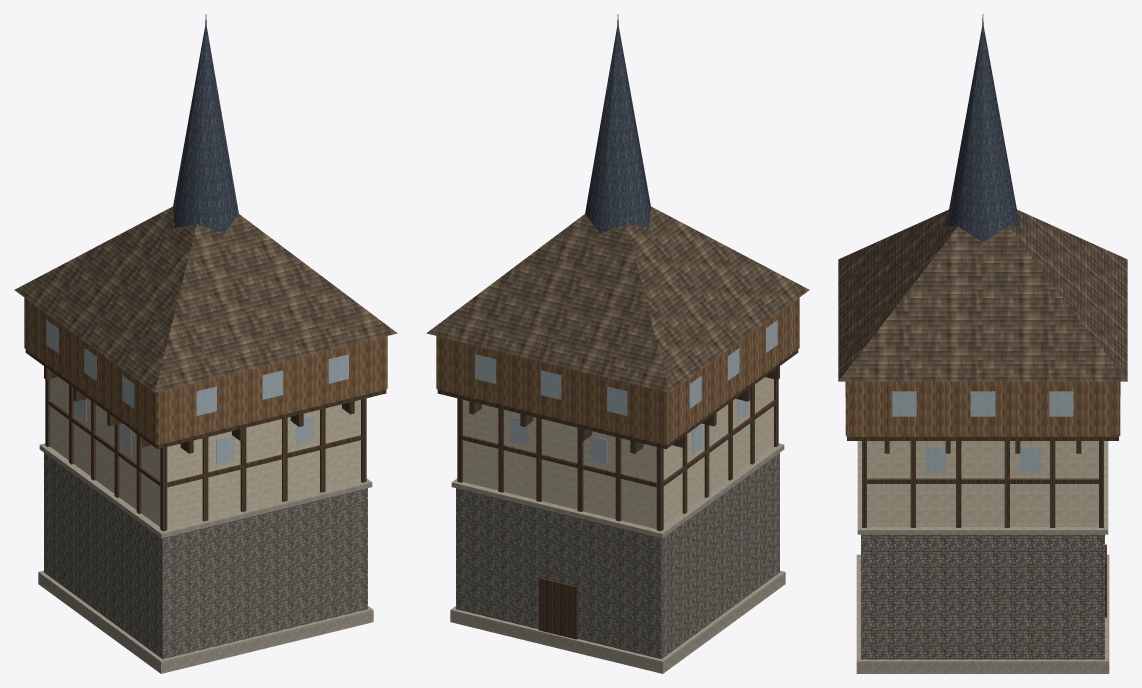
Rendered from Keep_Timber_Spire_1.gltf.
3 views of the same model, side by side, from view 1: azimuth 30°, elevation 25°; view 2: azimuth 150°, elevation 25°; view 3: azimuth 270°, elevation 25° (orthographic). The views are drawn at different scales.
Parts seen in each view (by area): view 1: Keep_Timber_Spire_1; view 2: Keep_Timber_Spire_1; view 3: Keep_Timber_Spire_1.
Part boxes in pixels (bbox=[...]): Keep_Timber_Spire_1: bbox=[14, 14, 397, 673]; Keep_Timber_Spire_1: bbox=[426, 14, 809, 673]; Keep_Timber_Spire_1: bbox=[838, 14, 1127, 673].
Bounding box in the file's own units: 16.6 × 38.4 × 16.6.
9 materials, 9 textured.
